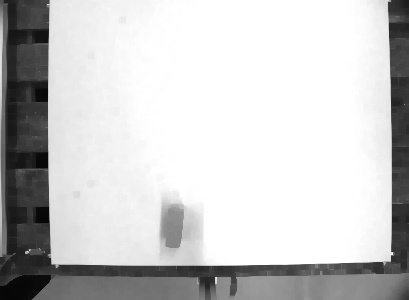b1: (163, 201, 187, 250)
